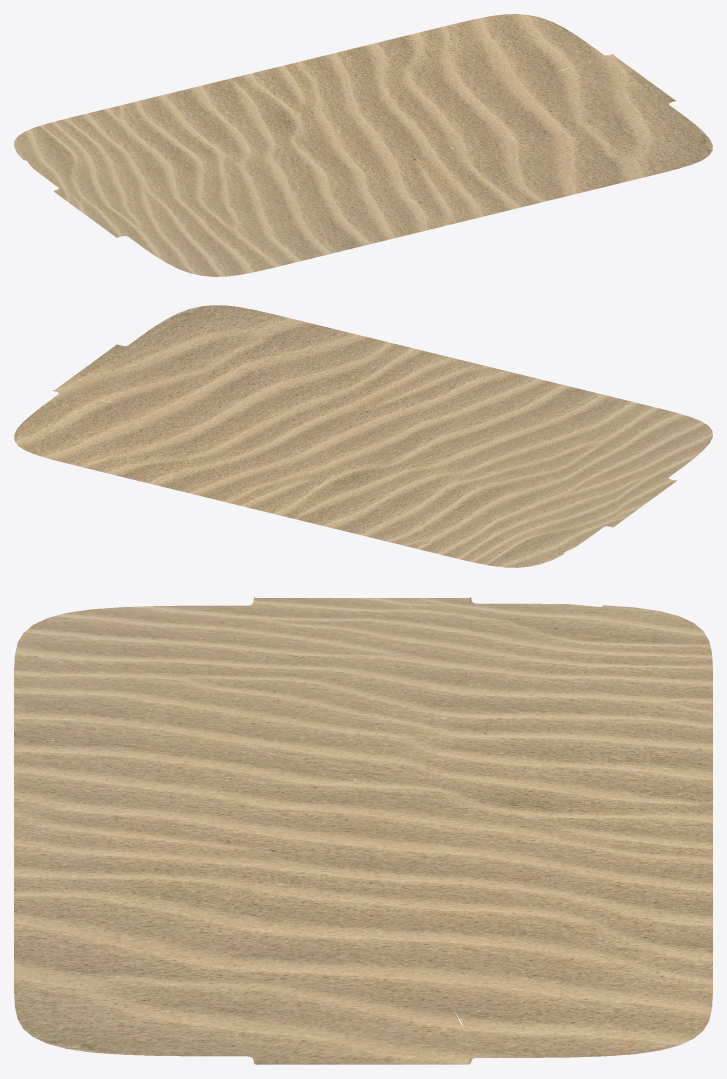
File: parte_chao2_estadio.obj
3 views of the same model, one above another, from view 1: azimuth 30°, elevation 25°; view 2: azimuth 150°, elevation 25°; view 3: azimuth 270°, elevation 25° (orthographic). The views are drawn at different scales.
Visible parts, largest first — view 1: polySurface3408.001; view 2: polySurface3408.001; view 3: polySurface3408.001.
Boxes of the visible parts, x1,y1,x2,y2 form: polySurface3408.001: (14, 14, 712, 276); polySurface3408.001: (14, 305, 712, 567); polySurface3408.001: (14, 597, 712, 1064).
Size of the model in its own units: 16.41 by 0.0269 by 10.37.
